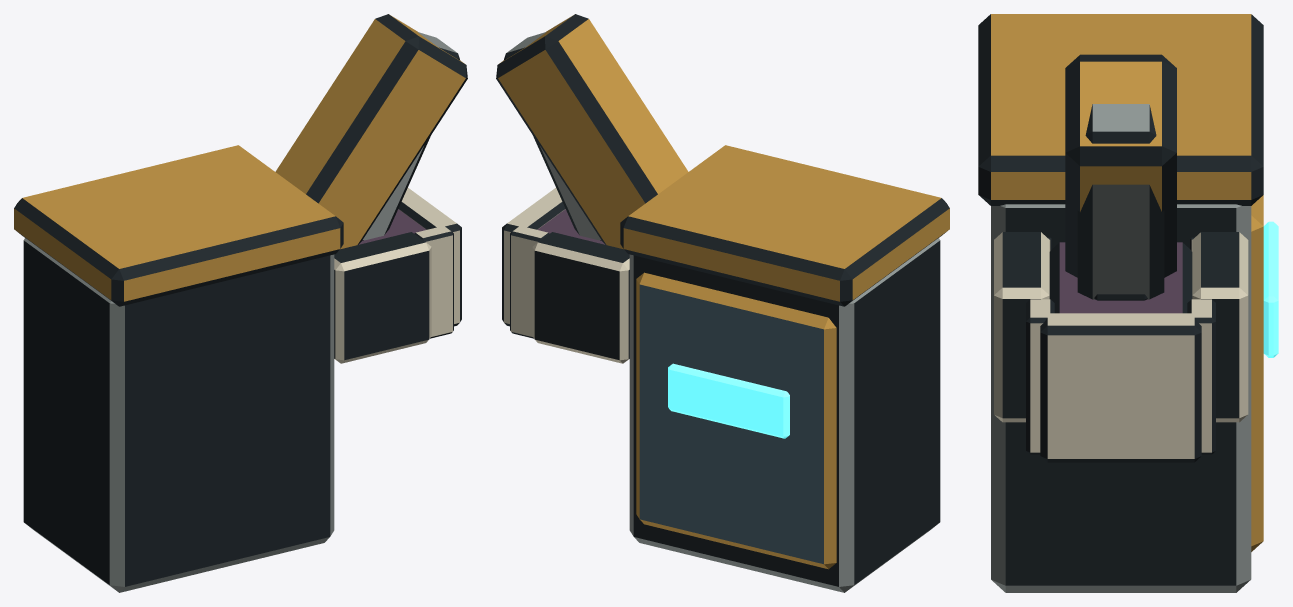
The model's file is tech_collector.glb.
3 renders of one model, left to right at view 1: azimuth 30°, elevation 25°; view 2: azimuth 150°, elevation 25°; view 3: azimuth 270°, elevation 25°, orthographic. The views are drawn at different scales.
Parts seen in each view (by area): view 1: Tech cassette dark shell, Cassette hinged cover, Short upper link, Broad collector jaw -1, Held intact tech notch lug 1 -1, Held intact tech end brace 1, Short outer link, Held intact tech notched casing; view 2: Tech cassette armour, Tech cassette dark shell, Cassette hinged cover, Short upper link, Broad collector jaw 1, Tech cassette inset, Held intact tech notch lug 1 1, Held intact tech end brace 1, Short outer link, Held intact tech notched casing; view 3: Tech cassette dark shell, Cassette hinged cover, Held intact tech end brace 1, Short upper link, Short outer link, Broad collector jaw 1, Broad collector jaw -1, Tech cassette armour, Held intact tech notched casing, Held intact tech notch lug 1 -1, Held intact tech notch lug 1 1, Tech cassette inset.
Boxes of the visible parts, bbox=[...] form: Tech cassette dark shell: bbox=[23, 238, 334, 592]; Cassette hinged cover: bbox=[14, 145, 343, 306]; Short upper link: bbox=[275, 14, 467, 249]; Broad collector jaw -1: bbox=[334, 232, 431, 363]; Held intact tech notch lug 1 -1: bbox=[414, 226, 453, 338]; Held intact tech end brace 1: bbox=[398, 188, 461, 326]; Short outer link: bbox=[362, 32, 460, 240]; Held intact tech notched casing: bbox=[358, 209, 426, 244]; Tech cassette armour: bbox=[636, 272, 836, 569]; Tech cassette dark shell: bbox=[629, 238, 940, 592]; Cassette hinged cover: bbox=[620, 145, 949, 306]; Short upper link: bbox=[496, 14, 688, 249]; Broad collector jaw 1: bbox=[532, 232, 629, 363]; Tech cassette inset: bbox=[668, 363, 789, 438]; Held intact tech notch lug 1 1: bbox=[510, 226, 549, 338]; Held intact tech end brace 1: bbox=[502, 188, 565, 326]; Short outer link: bbox=[503, 32, 601, 240]; Held intact tech notched casing: bbox=[537, 209, 605, 244]; Tech cassette dark shell: bbox=[991, 204, 1251, 592]; Cassette hinged cover: bbox=[978, 14, 1263, 205]; Held intact tech end brace 1: bbox=[1040, 313, 1201, 462]; Short upper link: bbox=[1065, 54, 1176, 277]; Short outer link: bbox=[1077, 104, 1164, 299]; Broad collector jaw 1: bbox=[1192, 232, 1248, 422]; Broad collector jaw -1: bbox=[994, 232, 1049, 422]; Tech cassette armour: bbox=[1251, 195, 1263, 551]; Held intact tech notched casing: bbox=[1049, 242, 1192, 313]; Held intact tech notch lug 1 -1: bbox=[1026, 299, 1054, 454]; Held intact tech notch lug 1 1: bbox=[1187, 299, 1215, 454]; Tech cassette inset: bbox=[1263, 221, 1278, 357].
Bounding box in the file's own units: 0.4863 × 0.5439 × 0.242.
